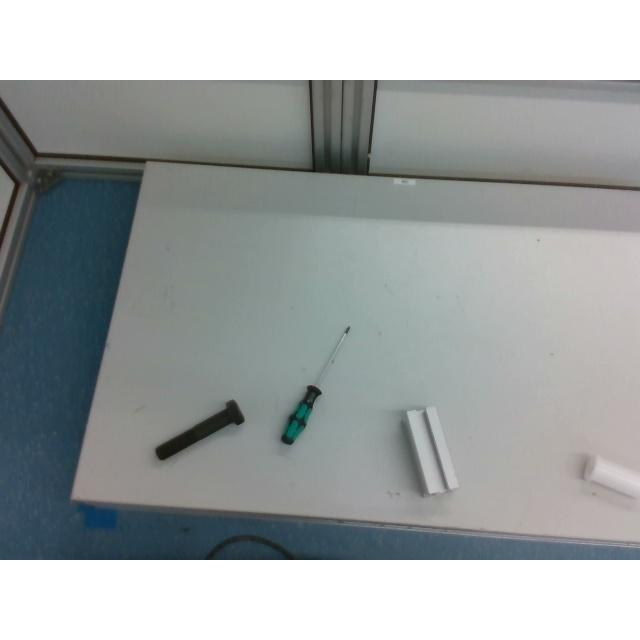M20_100: (154, 398, 244, 458)
S40_40_G: (405, 406, 459, 496)
Screwdriver: (282, 326, 350, 442)
Spacer: (582, 455, 638, 497)
